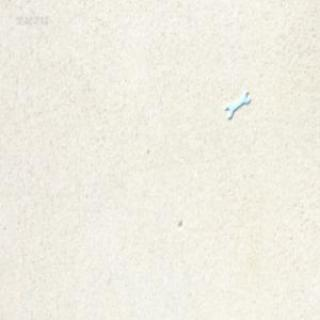Wrenchtrack_idkeyframe: (222, 92, 248, 120)
